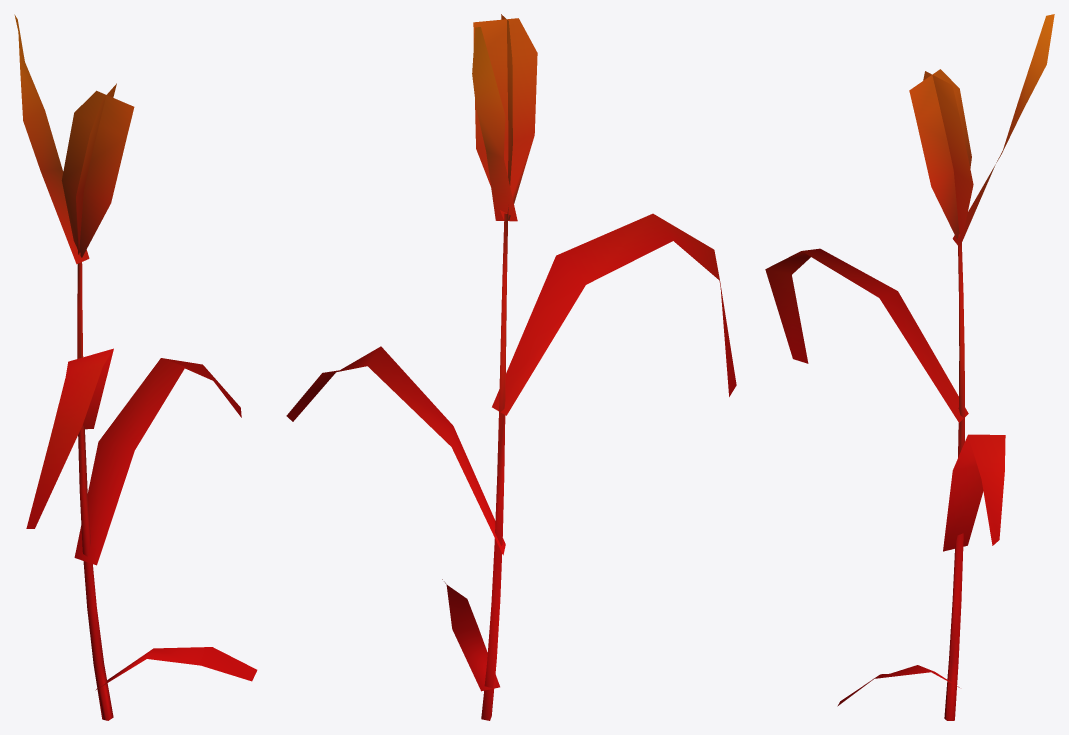
The model's file is SM_BarleyPlant_9.fbx.
The picture shows the model from 3 angles, left to right: view 1: azimuth 30°, elevation 25°; view 2: azimuth 150°, elevation 25°; view 3: azimuth 270°, elevation 25°; orthographic projection. The views are drawn at different scales.
Visible parts, largest first — view 1: SM_BarleyPlant_9; view 2: SM_BarleyPlant_9; view 3: SM_BarleyPlant_9.
Boxes of the visible parts, x1,y1,x2,y2 form: SM_BarleyPlant_9: [14, 14, 257, 720]; SM_BarleyPlant_9: [286, 14, 736, 720]; SM_BarleyPlant_9: [765, 14, 1054, 720].
Bounding box in the file's own units: 0.9431 × 1.98 × 0.7559.
